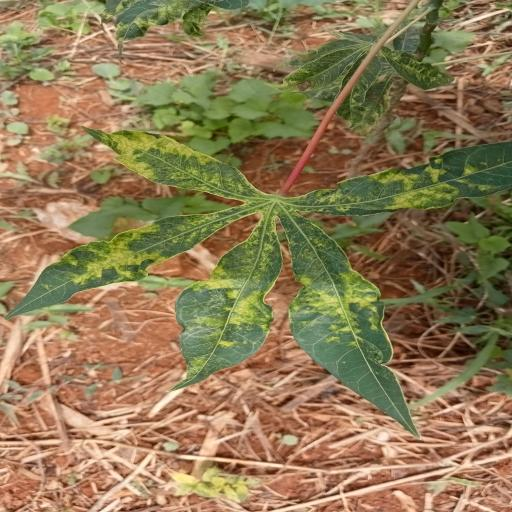Cassava_Mosaic: (11, 122, 512, 431)
